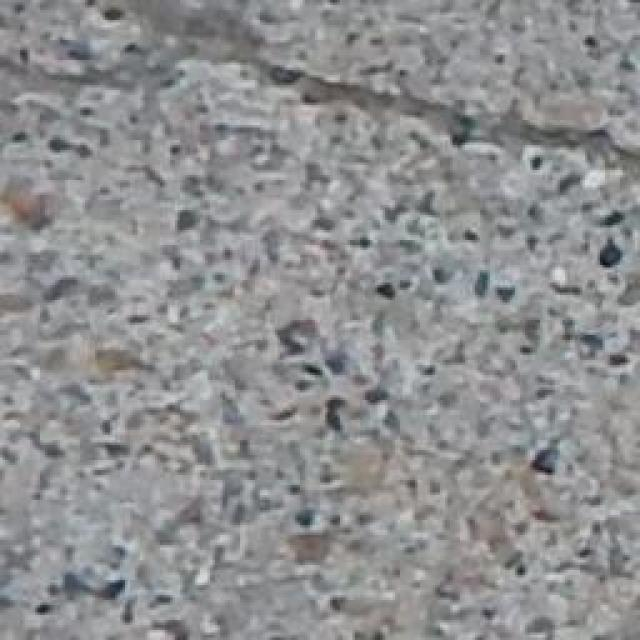concrete-crack: (1, 3, 639, 189)
